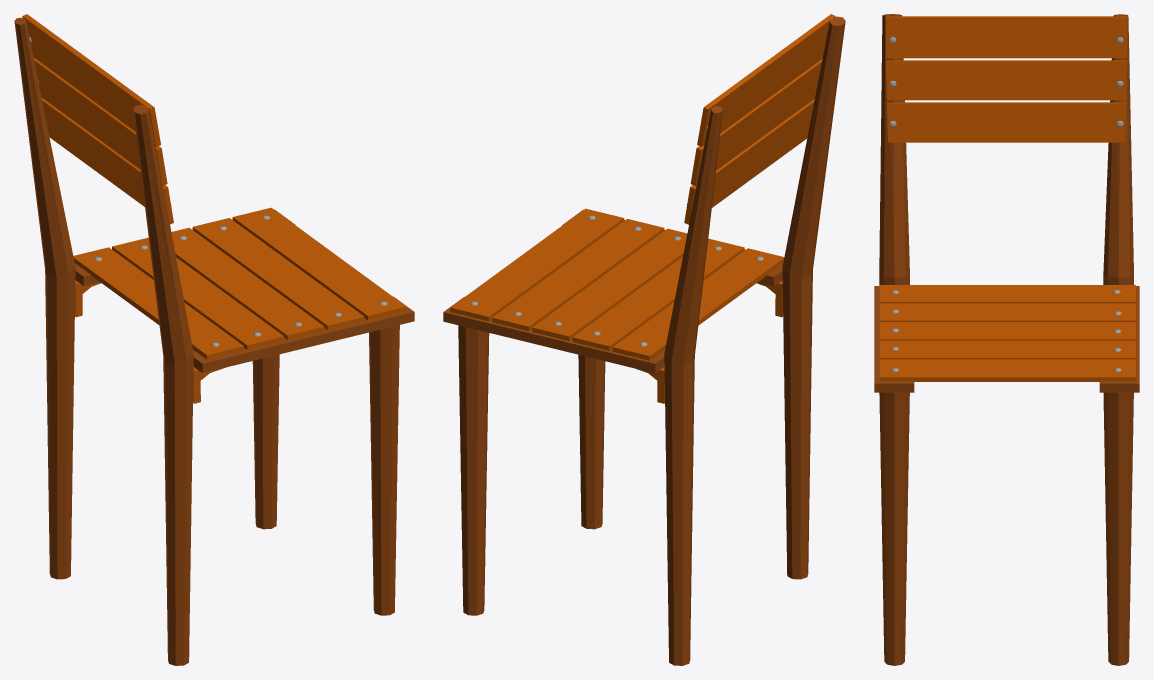
Rendered from Chair2.fbx.
3 views of the same model, side by side, from view 1: azimuth 30°, elevation 25°; view 2: azimuth 150°, elevation 25°; view 3: azimuth 270°, elevation 25° (orthographic). The views are drawn at different scales.
Parts seen in each view (by area): view 1: Chair2; view 2: Chair2; view 3: Chair2.
Part boxes in pixels (x1,y1,x2,y2): Chair2: (14, 14, 414, 665); Chair2: (443, 14, 845, 665); Chair2: (874, 14, 1139, 665).
Size of the model in its own units: 282 by 564 by 253.
